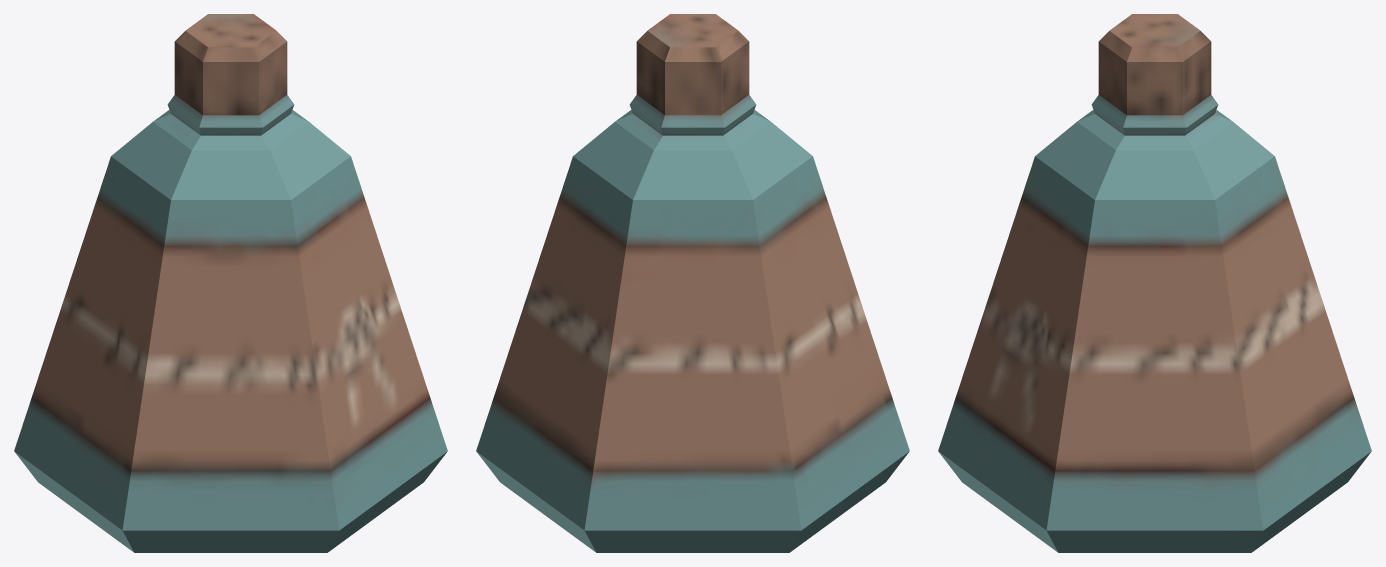
File: potion1special.fbx
3 renders of one model, left to right at view 1: azimuth 30°, elevation 25°; view 2: azimuth 150°, elevation 25°; view 3: azimuth 270°, elevation 25°, orthographic.
Visible parts, largest first — view 1: Cylinder; view 2: Cylinder; view 3: Cylinder.
Boxes of the visible parts, x1,y1,x2,y2 form: Cylinder: [14, 14, 447, 552]; Cylinder: [476, 14, 909, 552]; Cylinder: [938, 14, 1371, 552].
Size of the model in its own units: 17.32 by 22.97 by 20.
